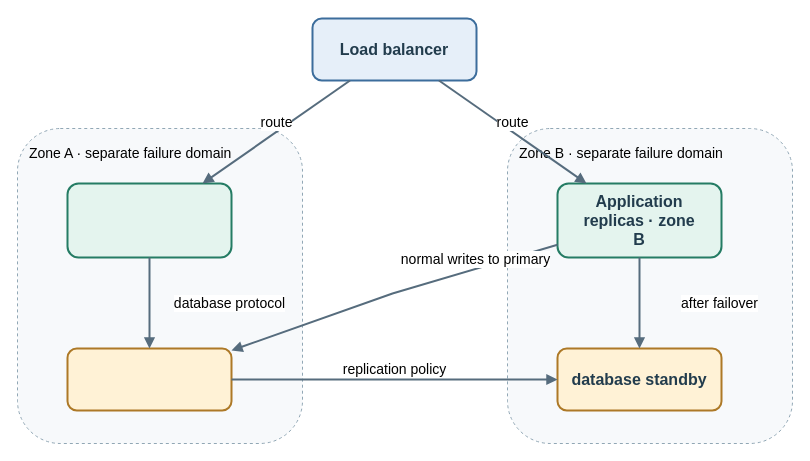
This 810x461 diagram has some shape labels left out. Here are the shapes that lost their labels. From the top down, the centre of each, then its label:
the point at 149,220: Application replicas · zone A
the point at 149,379: database primary
